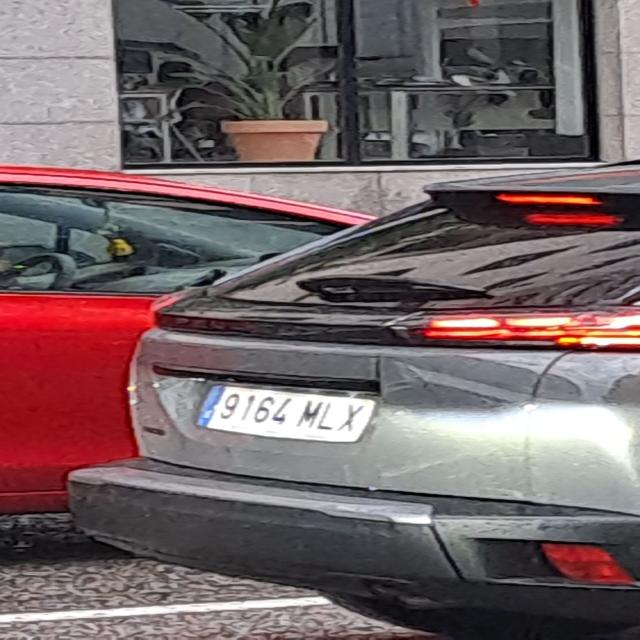license_plate-34Td: (196, 386, 376, 443)
